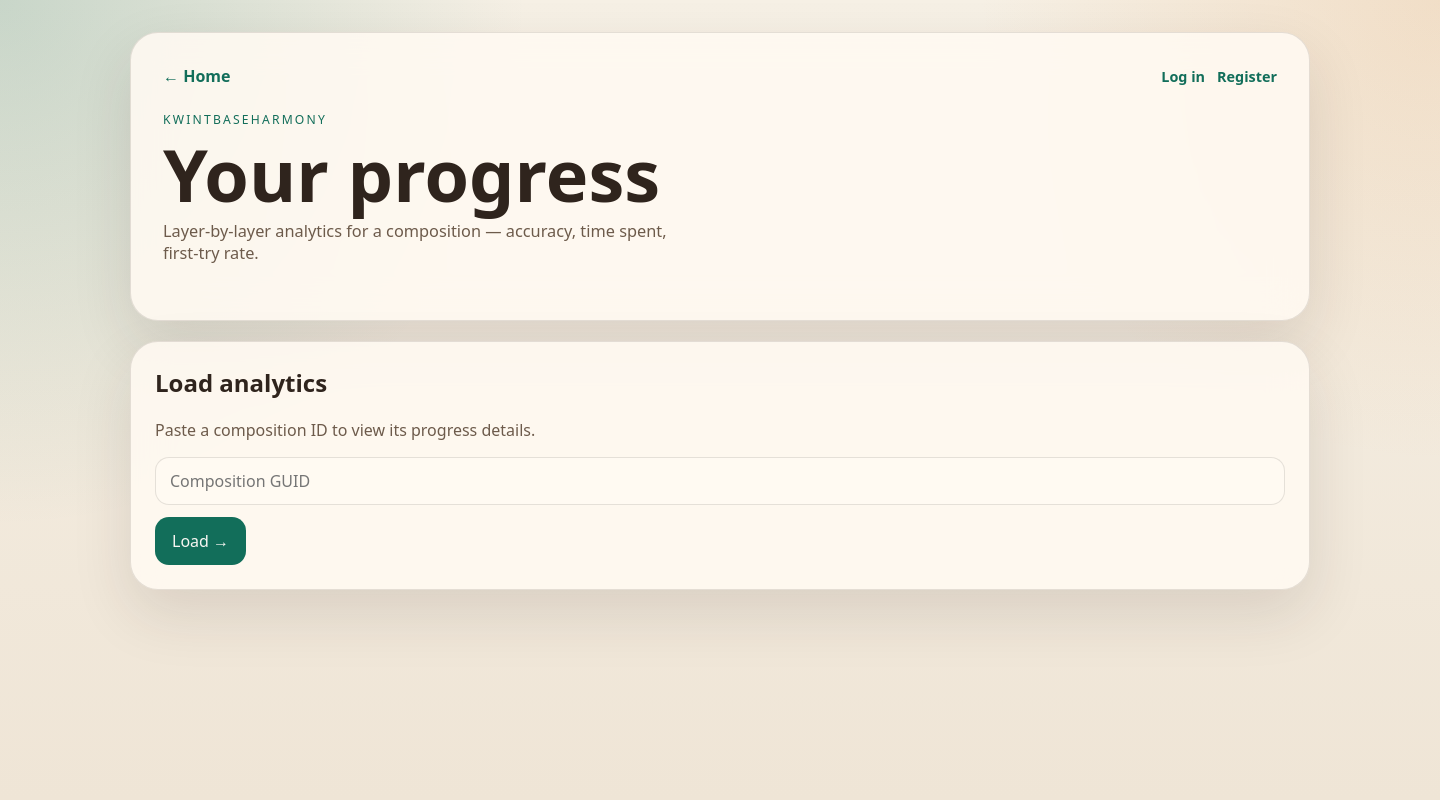
Scenario: Progress page — load form › shows an error when the API returns 404
The width and height of the screenshot is (1440, 800).
Type "1a2b3c4d-0000-4000-8000-000000000001" into the field with placeholder "Composition GUID". click: (720, 481)
box: 155,457 -> 1285,505
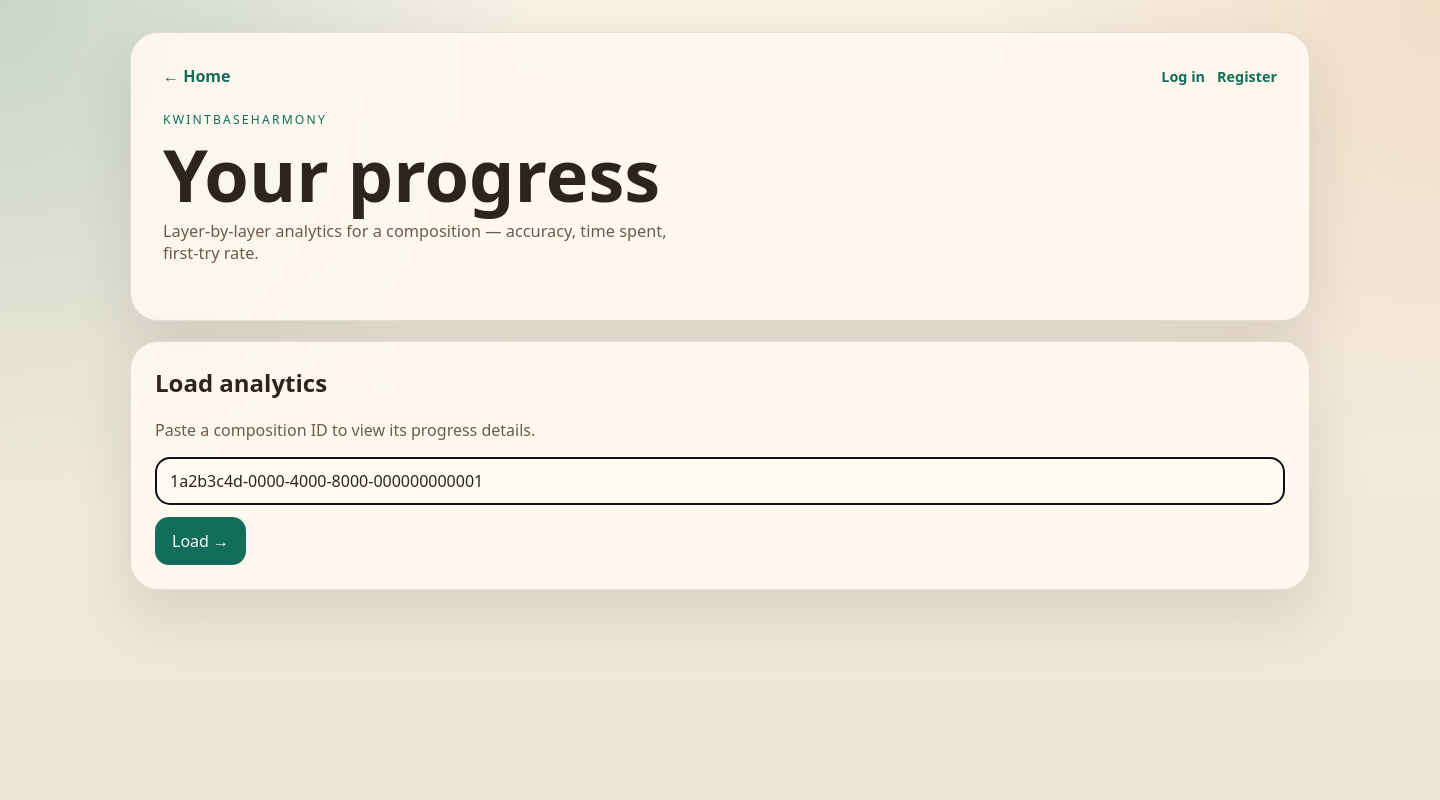
Submit the form, box 155,457 -> 1285,565
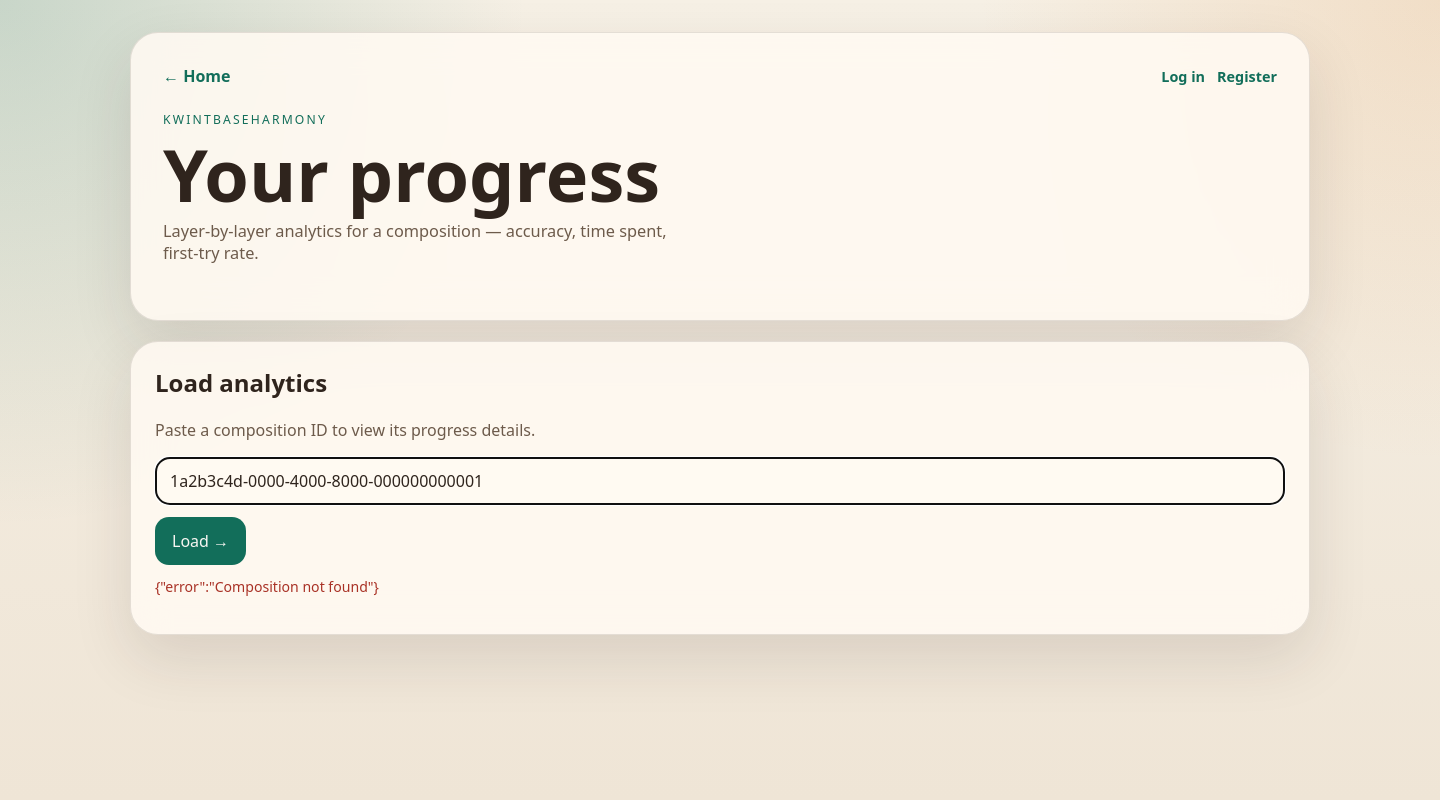
Expected: the text "{\"error\":\"Composition not found\"}" is shown, 155,577 -> 379,596
